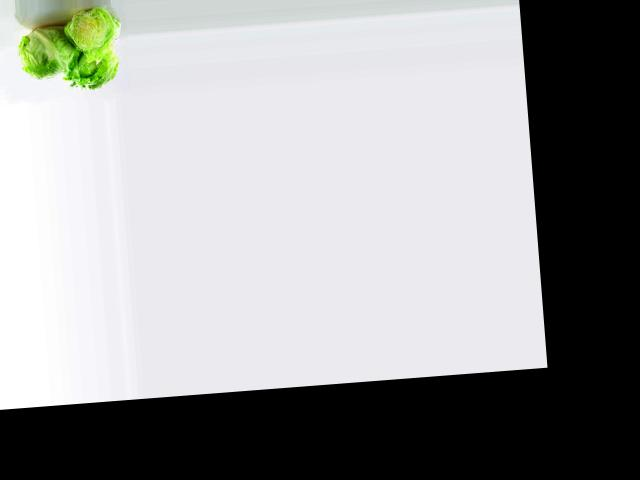lettuce: (58, 43, 122, 96)
